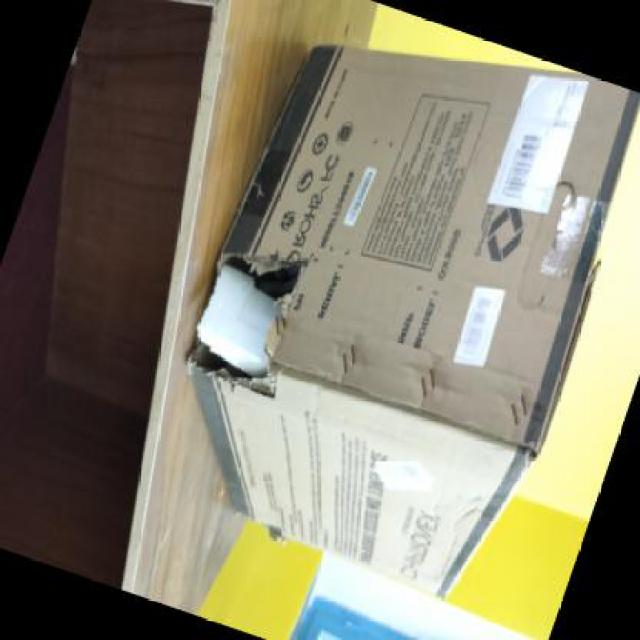leakage: (199, 252, 299, 375)
